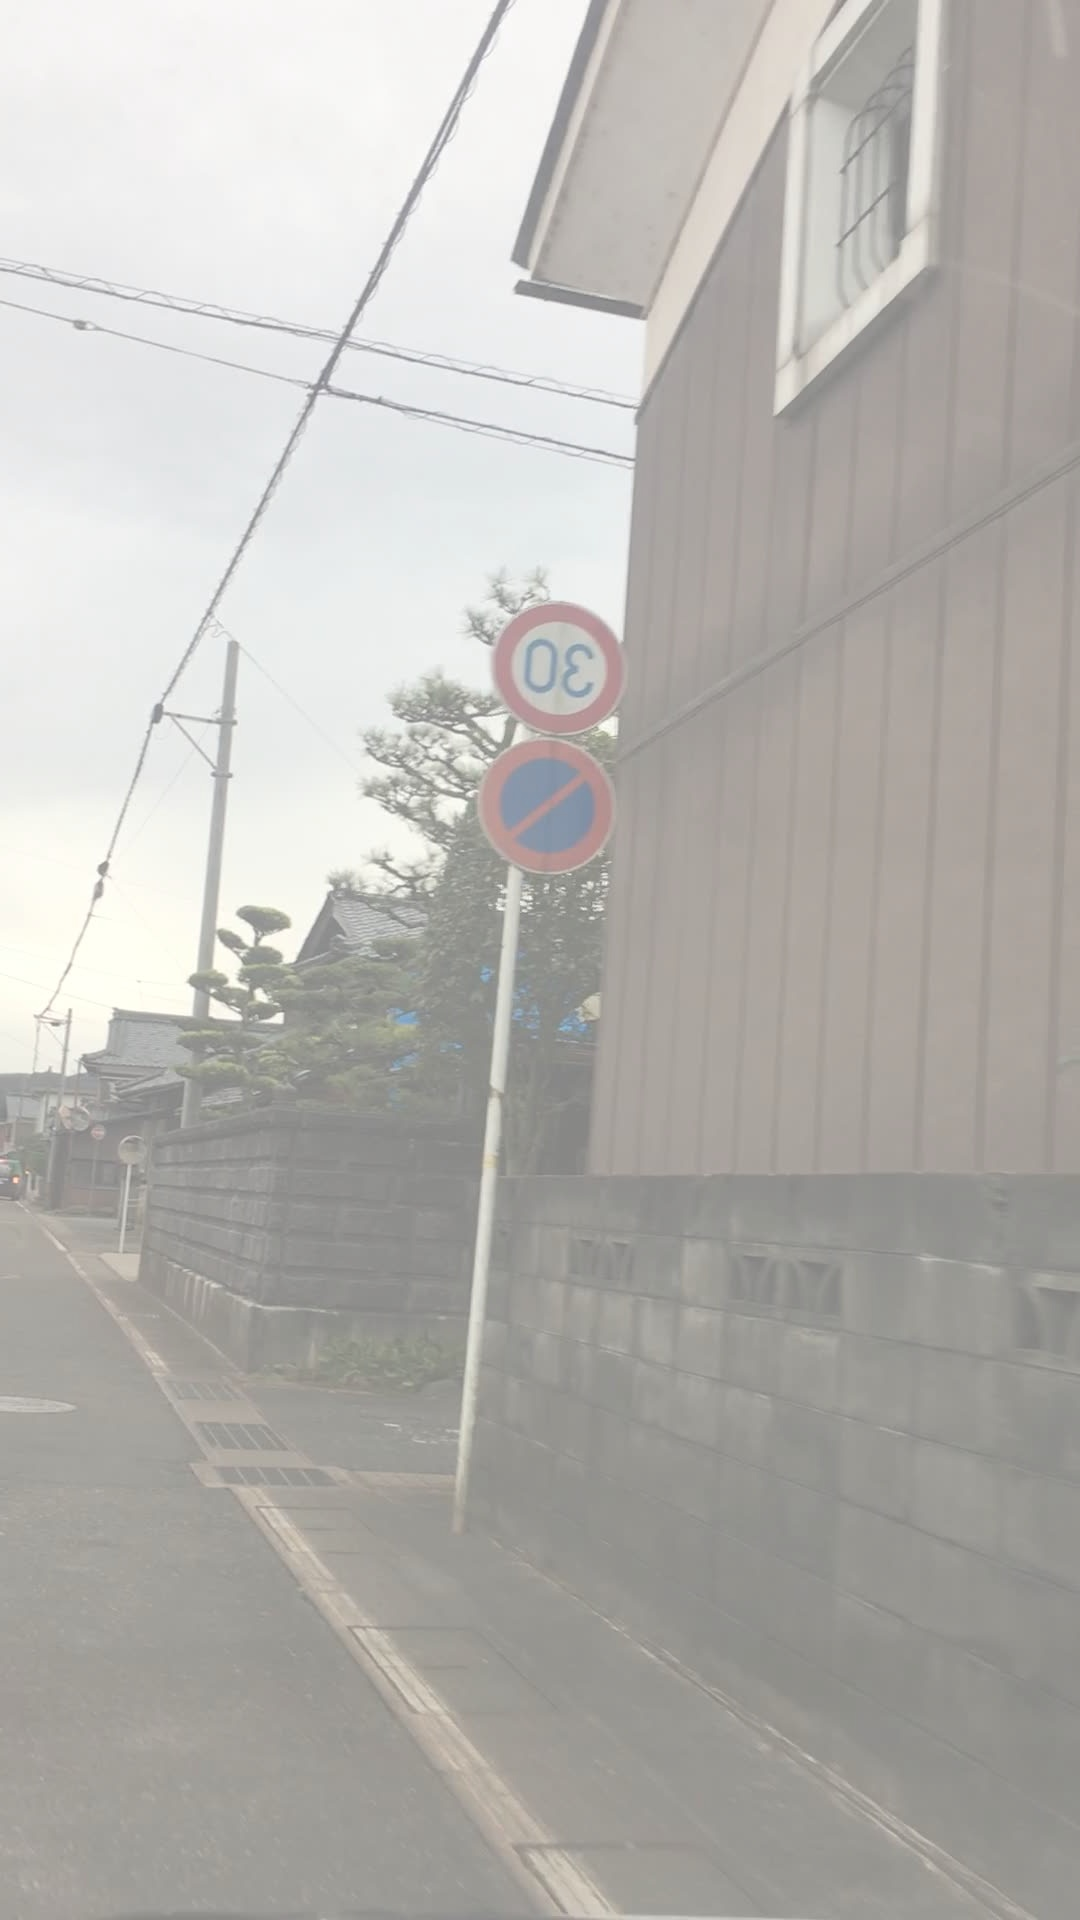Prohibition_sign: (491, 738, 628, 882)
Speed_sign: (488, 592, 647, 744)
